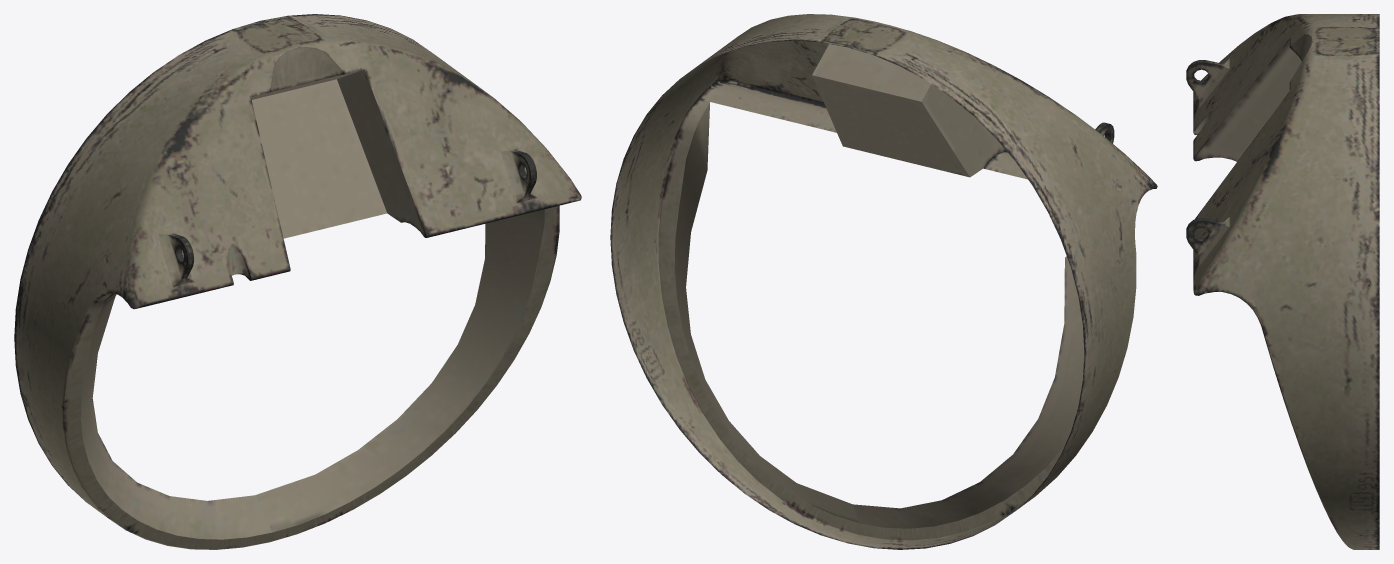
The model's file is Turret_01.glb.
The picture shows the model from 3 angles, left to right: view 1: azimuth 30°, elevation 25°; view 2: azimuth 150°, elevation 25°; view 3: azimuth 270°, elevation 25°; orthographic projection. The views are drawn at different scales.
Parts seen in each view (by area): view 1: set_0_group_0; view 2: set_0_group_0; view 3: set_0_group_0.
Part boxes in pixels (x1=…): set_0_group_0: x1=14, y1=14, x2=581, y2=549; set_0_group_0: x1=610, y1=14, x2=1157, y2=549; set_0_group_0: x1=1186, y1=14, x2=1379, y2=549.
Size of the model in its own units: 1.95 by 1.95 by 0.7041.
1 material, 1 textured.
